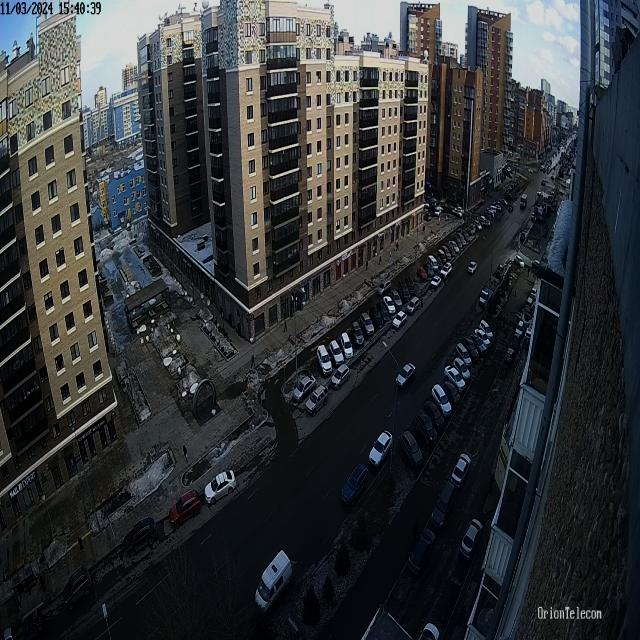car: (254, 548, 294, 616), (124, 513, 157, 559), (406, 529, 436, 578), (169, 488, 200, 534), (62, 565, 92, 612), (430, 480, 455, 530), (205, 468, 238, 505), (342, 464, 369, 508), (399, 428, 424, 470), (460, 516, 483, 560), (368, 428, 392, 469), (414, 410, 438, 446), (306, 382, 328, 419), (450, 452, 470, 490), (293, 372, 316, 405), (431, 383, 452, 418), (424, 399, 445, 432), (444, 364, 466, 395), (330, 362, 350, 394), (21, 611, 42, 640), (396, 360, 416, 390), (317, 343, 333, 378), (442, 379, 461, 408), (452, 356, 471, 384), (461, 334, 479, 363), (329, 338, 345, 370), (469, 332, 487, 358), (456, 342, 472, 370), (340, 332, 354, 361), (360, 311, 375, 338), (474, 327, 491, 350), (479, 319, 494, 344), (369, 305, 383, 331), (392, 309, 407, 333), (478, 286, 494, 308), (376, 300, 390, 325), (398, 279, 411, 304), (352, 322, 364, 348), (406, 296, 420, 318), (390, 288, 403, 311), (376, 277, 390, 298), (383, 294, 396, 316), (439, 260, 452, 280), (405, 274, 416, 297), (428, 254, 439, 274), (448, 238, 460, 256), (510, 332, 520, 353), (504, 347, 515, 366), (417, 264, 428, 283), (423, 260, 434, 279), (445, 240, 456, 259), (515, 319, 525, 339), (432, 253, 443, 271), (437, 247, 447, 266), (431, 274, 442, 291), (441, 245, 452, 262), (452, 234, 463, 251), (514, 253, 525, 270), (456, 230, 466, 248), (525, 296, 534, 314), (467, 260, 477, 276), (495, 264, 505, 280), (530, 286, 537, 299)
